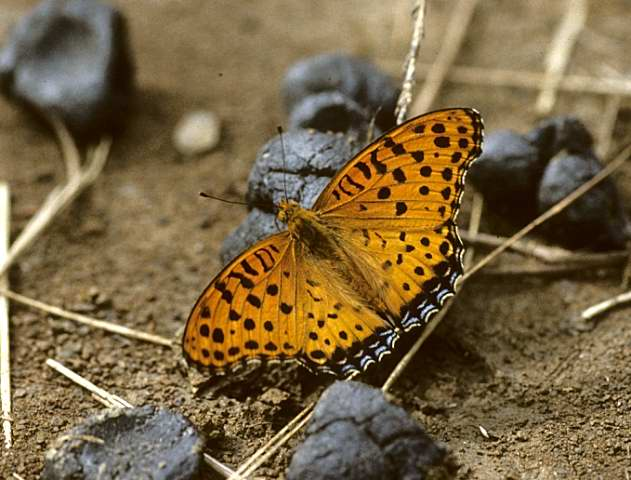Argyreus hyperbius: (178, 101, 493, 379)
butterfly: (180, 103, 495, 381)
